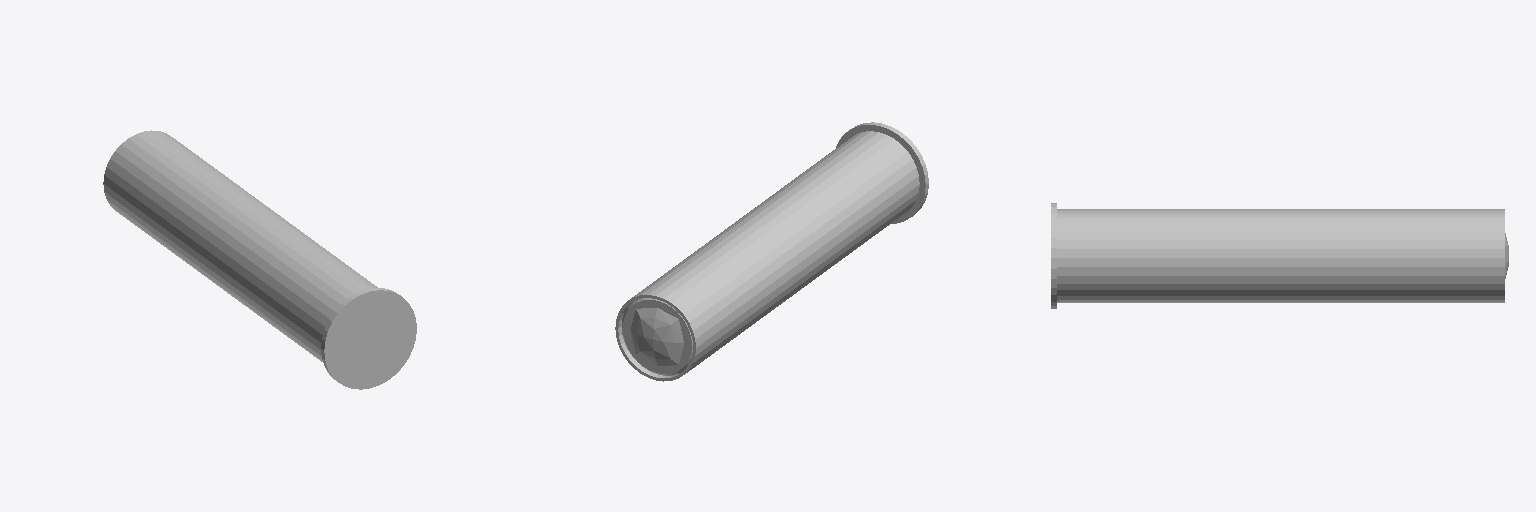
File: Flare_Long.obj
3 renders of one model, left to right at view 1: azimuth 30°, elevation 25°; view 2: azimuth 150°, elevation 25°; view 3: azimuth 270°, elevation 25°, orthographic.
Parts seen in each view (by area): view 1: Flare_Long_Circle.092; view 2: Flare_Long_Circle.092; view 3: Flare_Long_Circle.092.
Boxes of the visible parts, x1,y1,x2,y2 form: Flare_Long_Circle.092: [103, 130, 416, 389]; Flare_Long_Circle.092: [615, 122, 928, 381]; Flare_Long_Circle.092: [1051, 203, 1508, 308].
Size of the model in its own units: 0.0418 by 0.0418 by 0.1792.